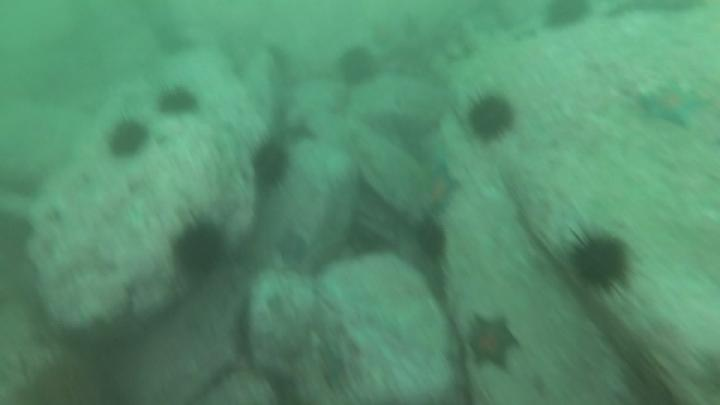echinus: (564, 225, 633, 297), (169, 217, 230, 284), (463, 90, 517, 150), (250, 138, 298, 194), (335, 43, 380, 91), (104, 116, 151, 161), (411, 215, 452, 263), (542, 1, 593, 33), (154, 85, 200, 119)
starfish: (635, 77, 713, 129), (462, 311, 522, 376), (421, 162, 465, 213), (275, 230, 312, 266), (371, 20, 400, 52), (397, 12, 425, 41)
